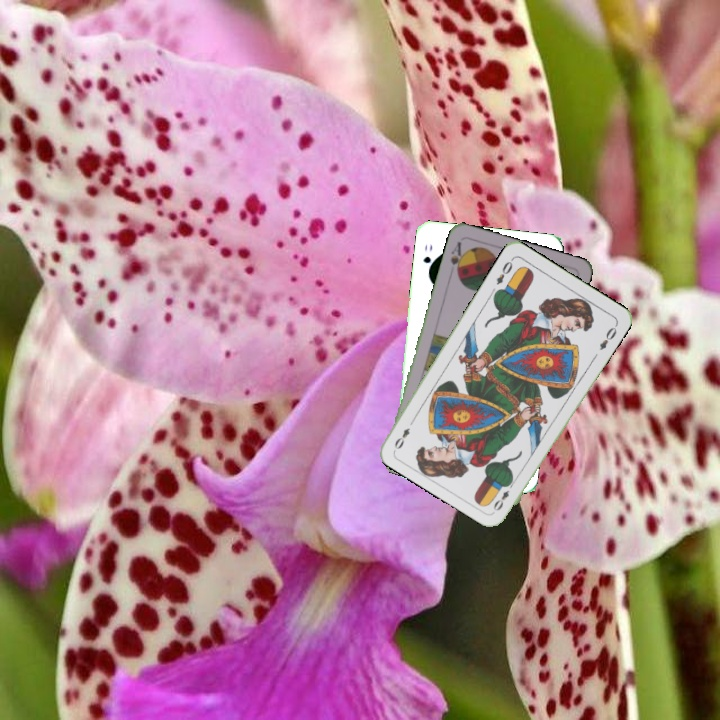EO: (489, 477, 517, 514), (492, 254, 516, 287)
GO: (419, 240, 436, 276)
SA: (446, 238, 467, 279)
